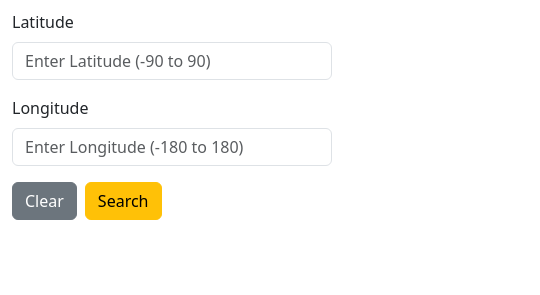
Test: SearchByGeolocation Component › displays warning for insufficient decimal places
The image size is (540, 295).
Type "40.71" into the field labelled "Latitude" at x=172, y=61, box [12,42,332,80]
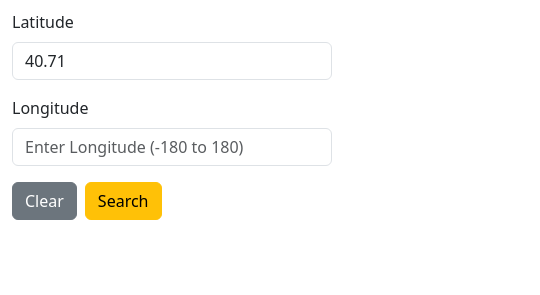
Type "-74.00" into the field labelled "Longitude" at x=172, y=147, box [12,128,332,166]
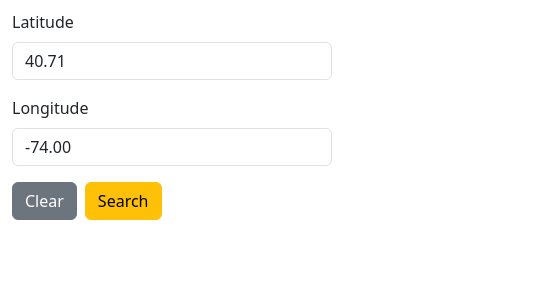
Click the button "Search" at x=123, y=201, box [85,182,162,220]
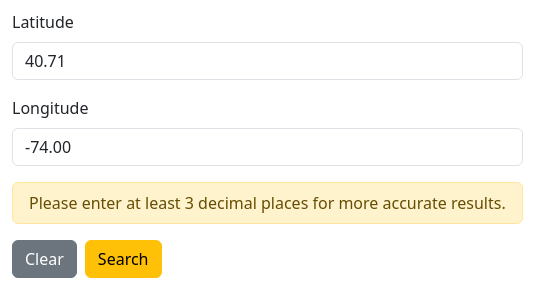
expect the text "Please enter at least 3 decimal places for more accurate results." is shown: met, box [12,182,523,224]
